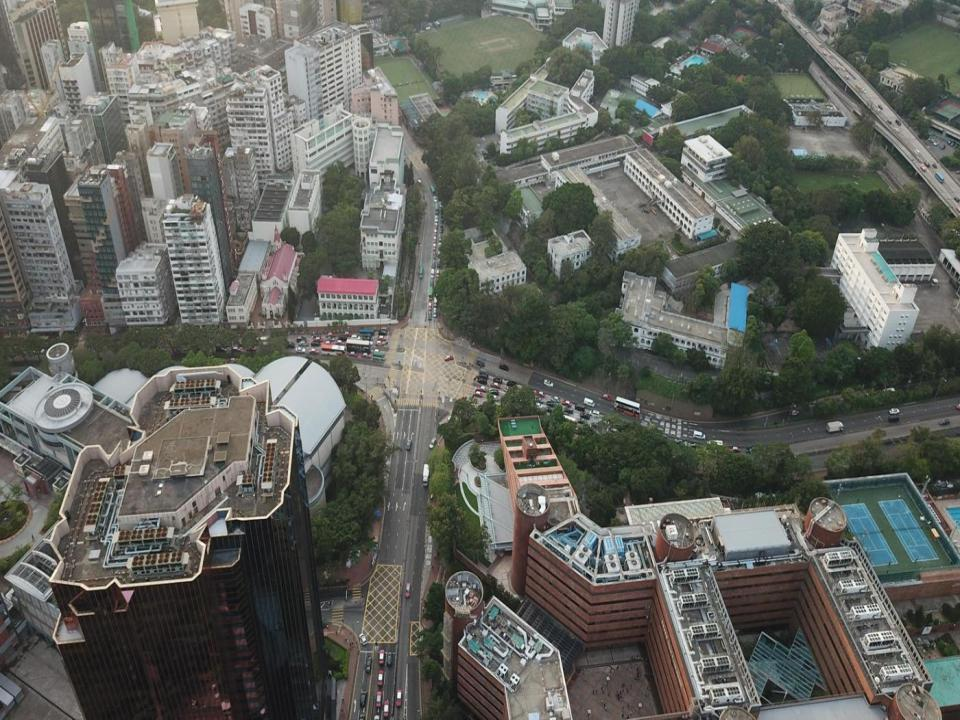bus: (346, 338, 370, 353), (321, 344, 346, 356), (358, 328, 374, 337), (372, 350, 385, 361), (431, 307, 437, 318), (430, 185, 436, 195), (428, 285, 432, 300), (418, 266, 423, 277), (430, 268, 435, 278), (435, 202, 439, 214), (434, 296, 438, 307), (437, 258, 441, 268)
car: (404, 581, 412, 599), (366, 655, 372, 673), (282, 341, 295, 349), (396, 689, 402, 706), (577, 416, 588, 425), (444, 414, 455, 423), (938, 418, 950, 426), (375, 691, 381, 707), (384, 700, 390, 716), (246, 344, 257, 352), (789, 409, 800, 417), (746, 446, 757, 454), (601, 393, 612, 401), (561, 399, 572, 407), (531, 401, 542, 409), (472, 390, 483, 398), (429, 438, 436, 450), (326, 331, 336, 339), (373, 347, 383, 355), (889, 406, 899, 414), (492, 376, 502, 384), (379, 648, 384, 664), (535, 391, 546, 398), (296, 346, 305, 354), (544, 380, 553, 388), (503, 386, 512, 394), (230, 346, 240, 353), (299, 339, 309, 346), (313, 335, 323, 342), (351, 334, 361, 341), (377, 334, 387, 341), (444, 354, 454, 361), (674, 438, 684, 445), (490, 381, 500, 388), (378, 670, 383, 684), (729, 446, 740, 452), (476, 386, 487, 392), (309, 348, 318, 355), (499, 363, 508, 370), (547, 400, 556, 407), (227, 357, 237, 363), (348, 350, 358, 356), (335, 339, 345, 345), (406, 440, 412, 450), (378, 329, 386, 336), (534, 396, 542, 403), (322, 341, 333, 346), (545, 407, 556, 412), (691, 443, 700, 449), (550, 396, 559, 402), (361, 352, 371, 357), (325, 336, 334, 341), (343, 331, 352, 336), (375, 339, 384, 344), (432, 195, 438, 202), (313, 333, 320, 339), (440, 200, 444, 208), (433, 228, 437, 236), (438, 241, 442, 249), (431, 260, 435, 268), (428, 310, 431, 320), (440, 226, 444, 233), (438, 235, 442, 242), (435, 215, 439, 221), (432, 237, 436, 243), (432, 251, 435, 259), (428, 302, 431, 310), (432, 243, 435, 250), (436, 269, 439, 276), (434, 223, 438, 228)
truck: (826, 421, 844, 431), (422, 464, 430, 486)
van: (583, 397, 595, 408), (360, 690, 368, 706), (693, 430, 706, 439), (258, 336, 272, 344), (478, 371, 488, 381), (359, 632, 366, 645), (386, 650, 392, 665), (888, 415, 900, 422), (362, 333, 372, 341), (589, 410, 599, 418), (574, 403, 584, 411), (506, 380, 516, 388), (215, 345, 226, 352), (296, 335, 307, 342), (490, 387, 499, 395), (580, 412, 590, 419), (564, 407, 573, 414), (478, 378, 487, 385), (476, 360, 484, 367), (338, 335, 346, 341), (488, 395, 497, 400), (311, 341, 320, 345)
